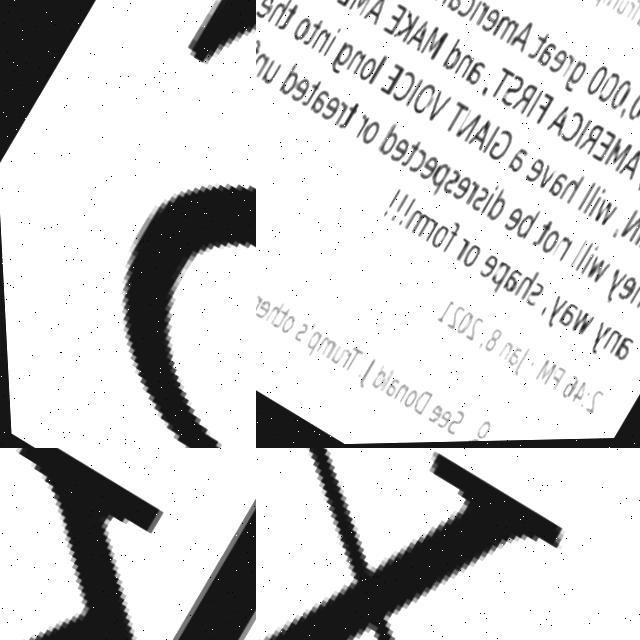0: (578, 64, 609, 101), (602, 79, 633, 115), (591, 72, 621, 107), (620, 89, 640, 125), (447, 311, 471, 339), (631, 96, 640, 133)
1: (429, 299, 452, 327)
2: (456, 314, 482, 345), (575, 389, 600, 418), (437, 305, 462, 333)
4: (561, 380, 585, 409)
6: (551, 375, 575, 403)
8: (475, 326, 501, 357)
K: (0, 448, 256, 640)
S: (0, 0, 256, 448)
X: (256, 448, 640, 640)
